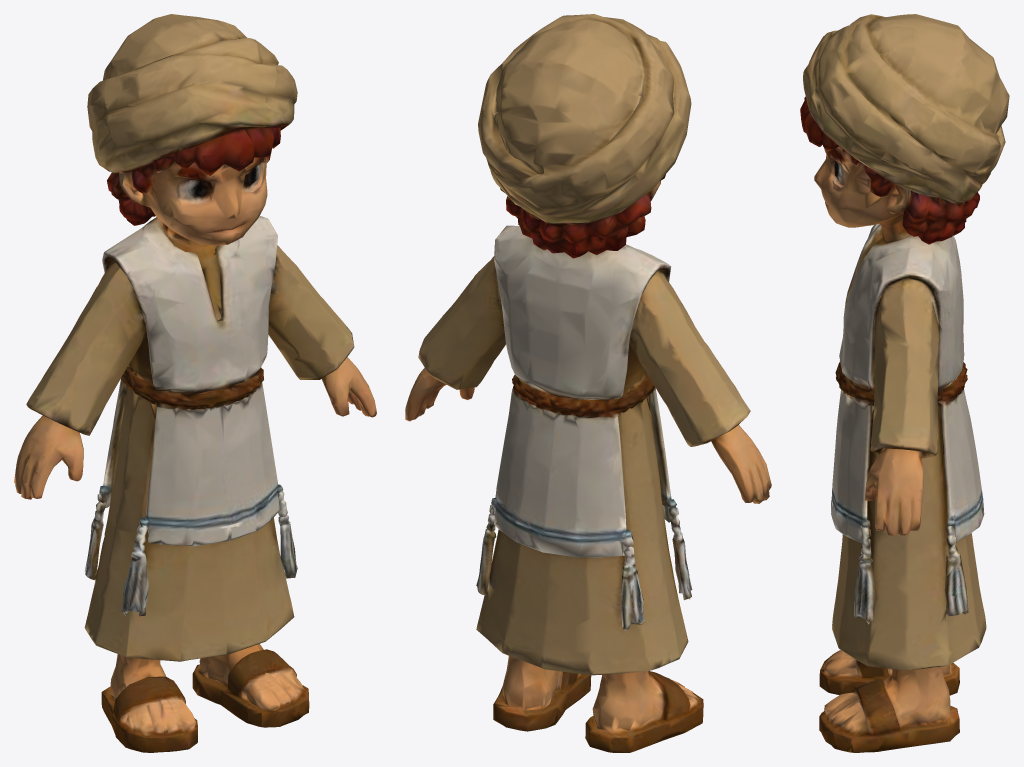
The model's file is david_tripo_static.glb.
The picture shows the model from 3 angles, left to right: view 1: azimuth 30°, elevation 25°; view 2: azimuth 150°, elevation 25°; view 3: azimuth 270°, elevation 25°; orthographic projection.
Parts seen in each view (by area): view 1: DavidSingleUnifiedNode; view 2: DavidSingleUnifiedNode; view 3: DavidSingleUnifiedNode.
Part boxes in pixels (x1,y1,x2,y2): DavidSingleUnifiedNode: (14,14,376,752); DavidSingleUnifiedNode: (405,14,771,752); DavidSingleUnifiedNode: (800,14,1009,752).
Bounding box in the file's own units: 0.2709 × 0.5056 × 0.1394.
Materials: 1 (1 with a texture image).
